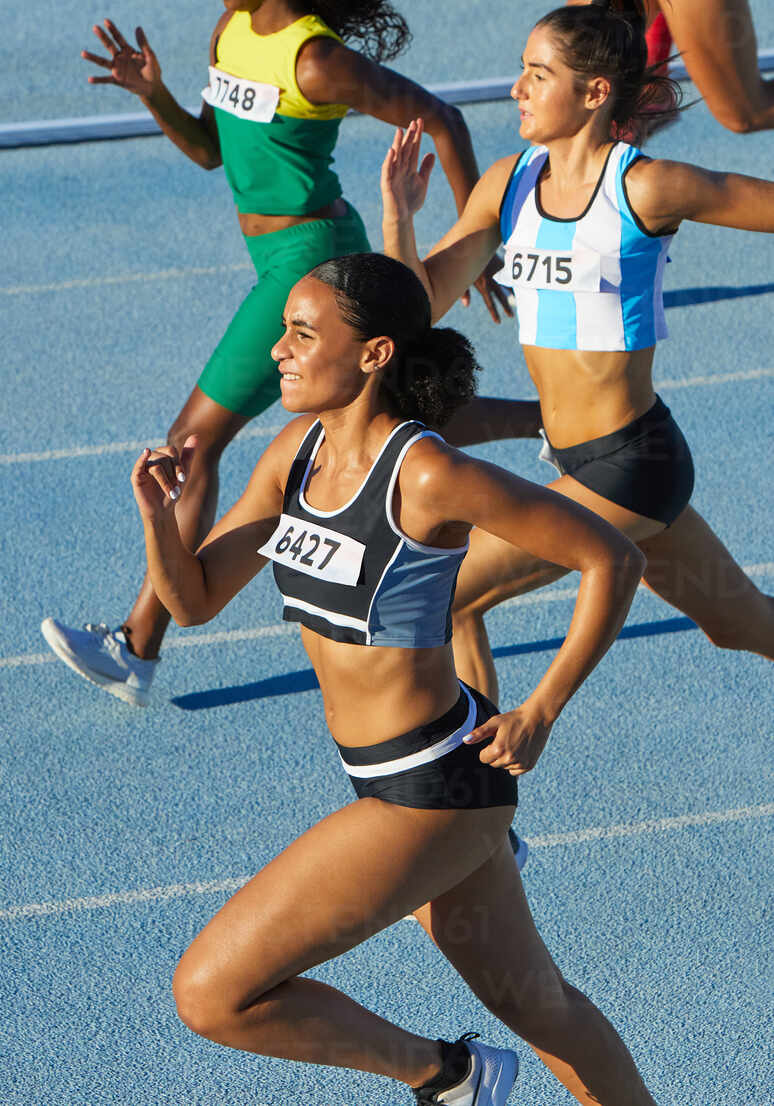runner: (133, 256, 654, 1106), (430, 7, 774, 673)
